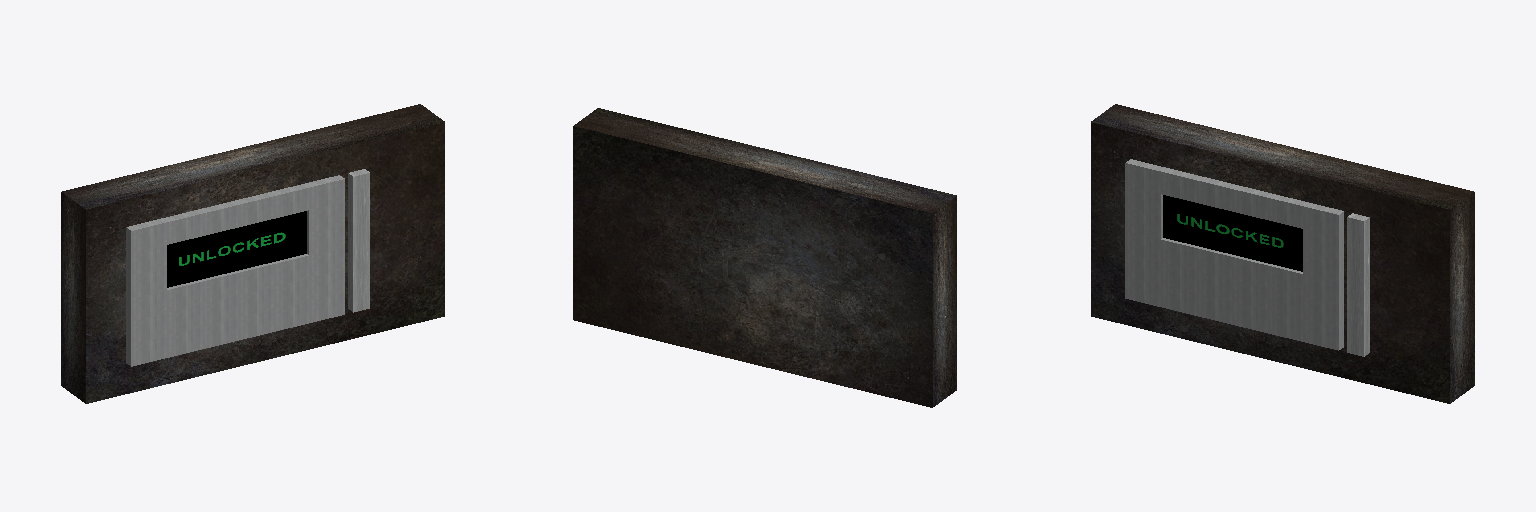
The picture shows the model from 3 angles: view 1: azimuth 30°, elevation 25°; view 2: azimuth 150°, elevation 25°; view 3: azimuth 330°, elevation 25°; orthographic projection.
Visible parts, largest first — view 1: lockParent, lockParent lock1, lockParent screen, lockParent lock2; view 2: lockParent; view 3: lockParent, lockParent lock1, lockParent screen, lockParent lock2.
Part boxes in pixels (bbox=[...]): lockParent: bbox=[61, 104, 444, 403]; lockParent lock1: bbox=[126, 175, 344, 366]; lockParent screen: bbox=[167, 211, 306, 287]; lockParent lock2: bbox=[348, 169, 369, 312]; lockParent: bbox=[573, 108, 956, 407]; lockParent: bbox=[1091, 104, 1474, 403]; lockParent lock1: bbox=[1125, 159, 1343, 350]; lockParent screen: bbox=[1163, 195, 1302, 271]; lockParent lock2: bbox=[1347, 213, 1369, 356].
Size of the model in its own units: 6.66 by 3.44 by 0.9665.
Materials: 4 (3 with a texture image).